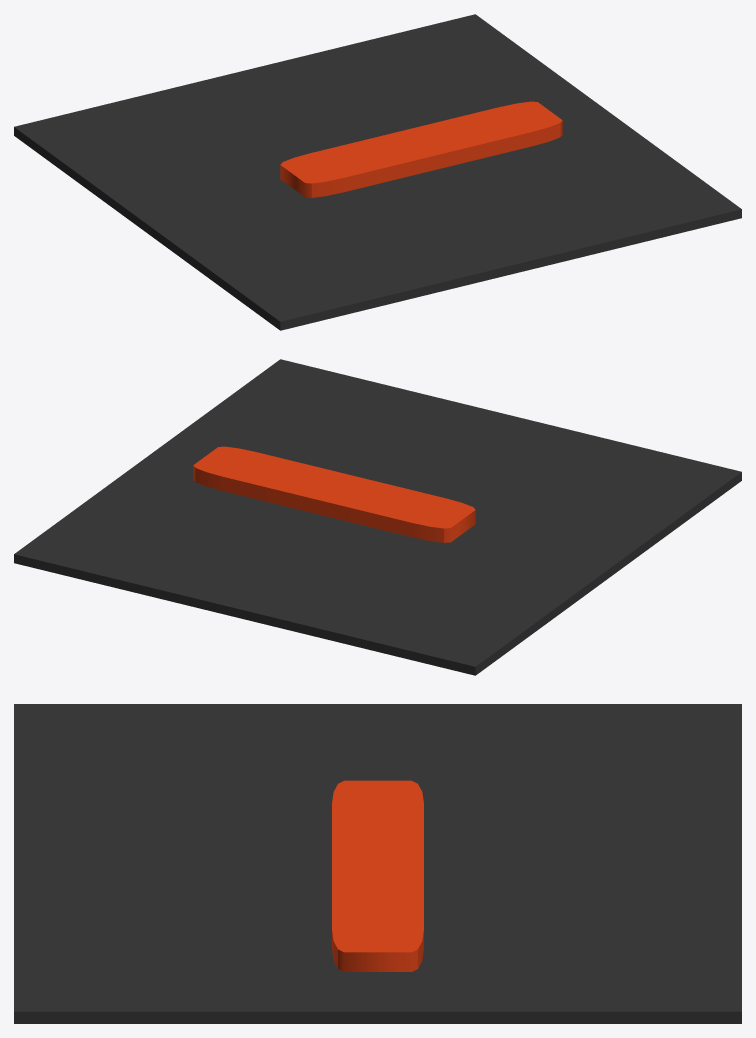
File: printerPlate.glb
The picture shows the model from 3 angles, top to bottom: view 1: azimuth 30°, elevation 25°; view 2: azimuth 150°, elevation 25°; view 3: azimuth 270°, elevation 25°; orthographic projection. The views are drawn at different scales.
Parts seen in each view (by area): view 1: 3d_printer_moving, Plane.017; view 2: 3d_printer_moving, Plane.017; view 3: 3d_printer_moving, Plane.017.
Boxes of the visible parts, box(x1,y1,x2,y2) form: 3d_printer_moving: box(14, 14, 741, 330); Plane.017: box(280, 101, 562, 197); 3d_printer_moving: box(14, 359, 741, 675); Plane.017: box(193, 446, 475, 542); 3d_printer_moving: box(14, 704, 741, 1023); Plane.017: box(332, 780, 423, 971).
Bounding box in the file's own units: 0.1993 × 0.00982 × 0.1993.
